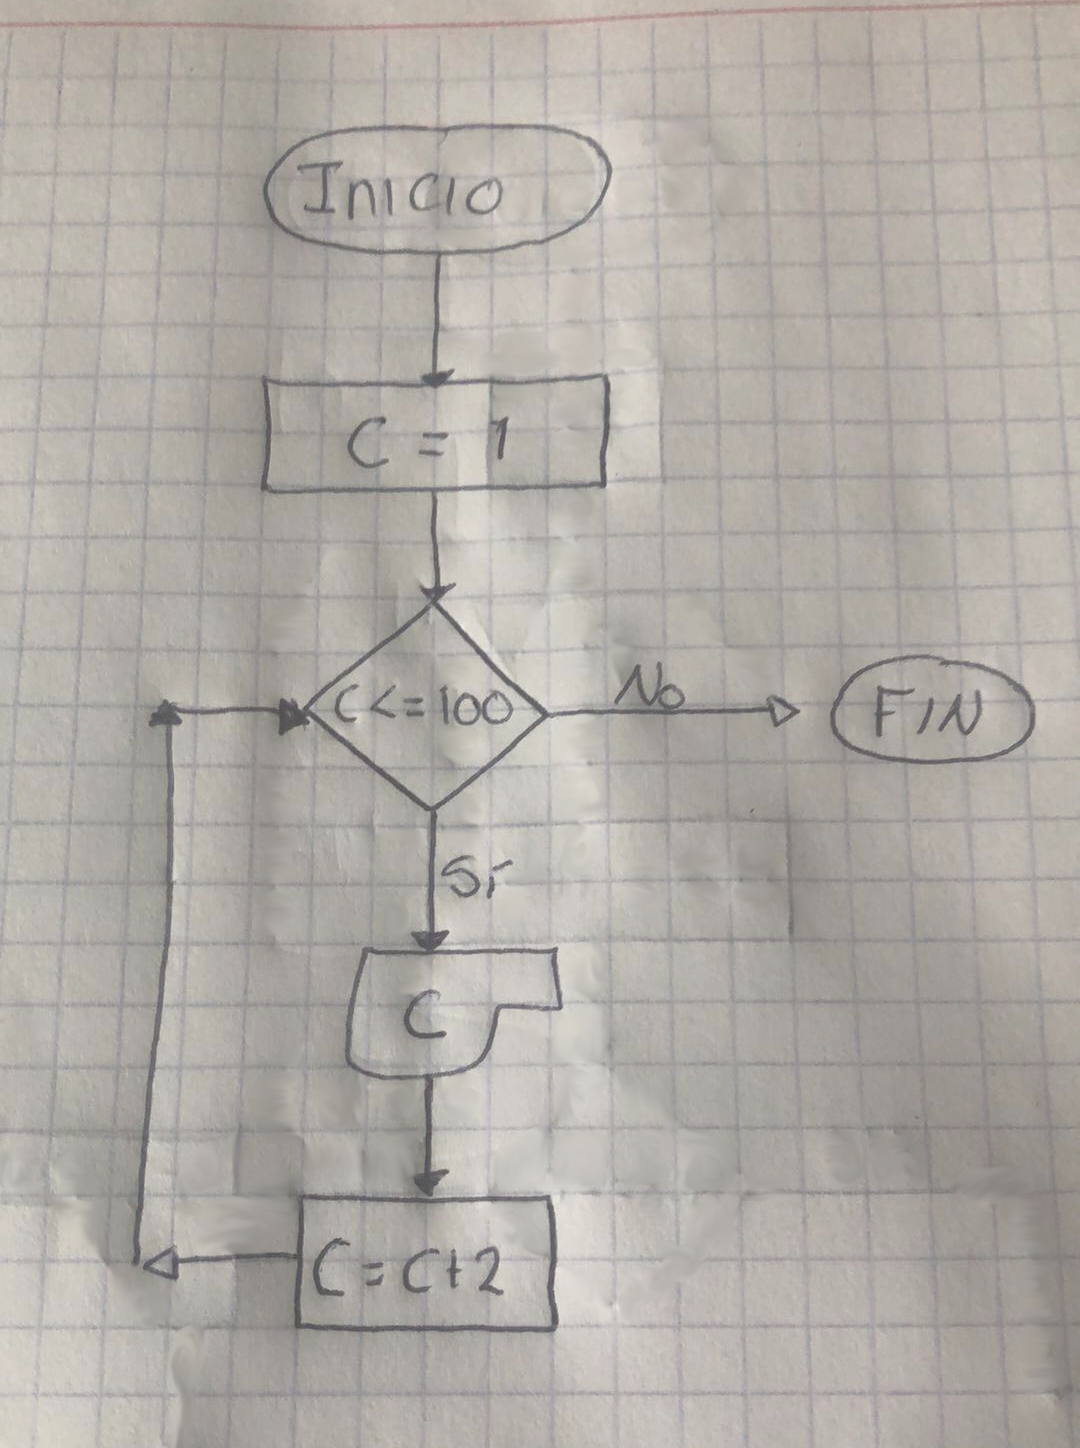arrow_line_down: (406, 814, 456, 958), (413, 245, 461, 395), (402, 1077, 450, 1199), (415, 488, 461, 608)
arrow_line_left: (137, 1227, 306, 1288)
arrow_line_right: (539, 677, 805, 736), (158, 681, 307, 734)
arrow_line_up: (124, 686, 193, 1273)
decision: (304, 596, 552, 814)
print: (332, 942, 569, 1079)
process: (248, 371, 626, 501), (287, 1186, 569, 1347)
start_end: (248, 119, 617, 266), (808, 645, 1048, 777)
